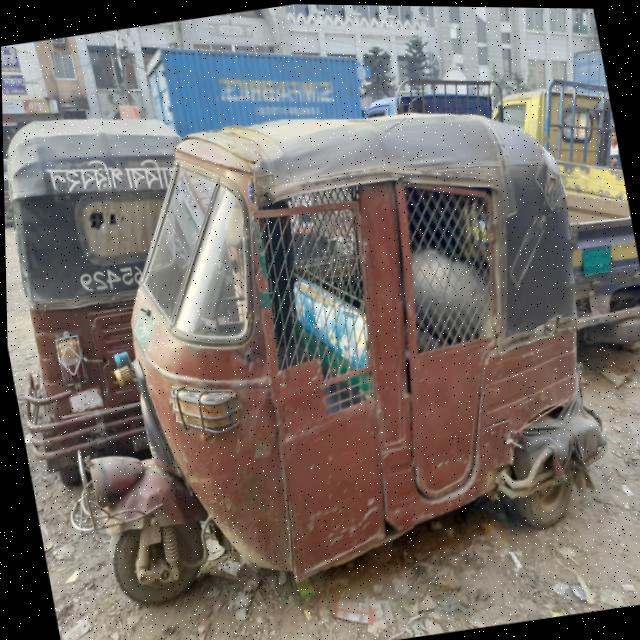cng: (20, 72, 640, 640)
